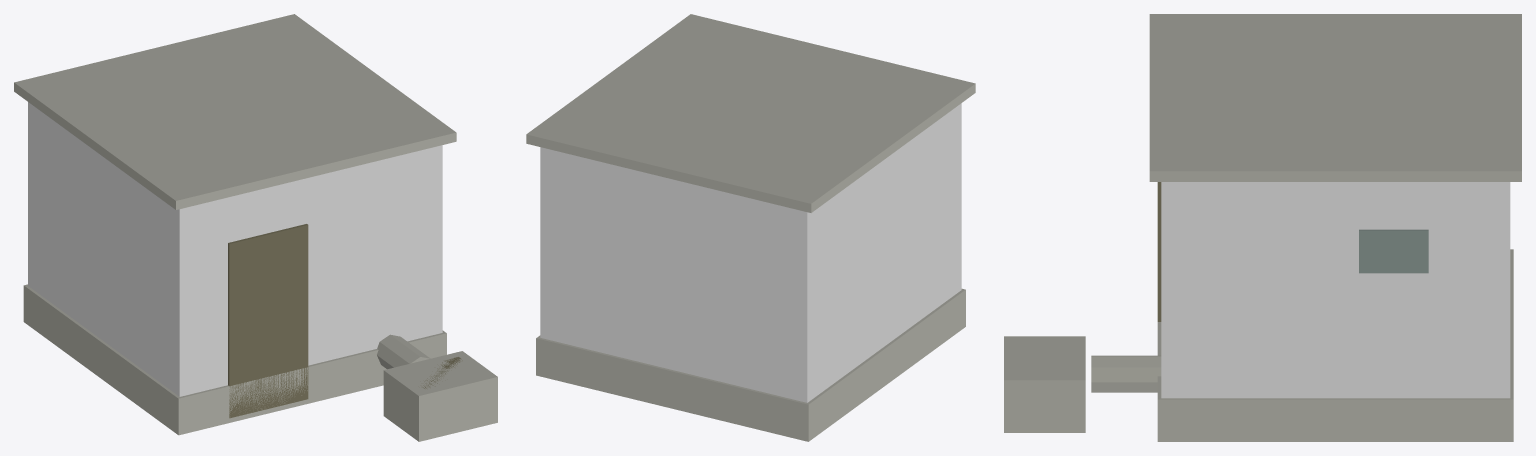
Rendered from SM_CasetaPozo_v0_Encalada_LOD1.fbx.
3 renders of one model, left to right at view 1: azimuth 30°, elevation 25°; view 2: azimuth 150°, elevation 25°; view 3: azimuth 270°, elevation 25°, orthographic. The views are drawn at different scales.
Visible parts, largest first — view 1: SM_huerta_nules_v0_LOD1; view 2: SM_huerta_nules_v0_LOD1; view 3: SM_huerta_nules_v0_LOD1.
Part boxes in pixels (x1,y1,x2,y2): SM_huerta_nules_v0_LOD1: (14, 14, 497, 441); SM_huerta_nules_v0_LOD1: (526, 14, 975, 441); SM_huerta_nules_v0_LOD1: (1004, 14, 1521, 441).
Size of the model in its own units: 3.2 by 2.6 by 4.45.
